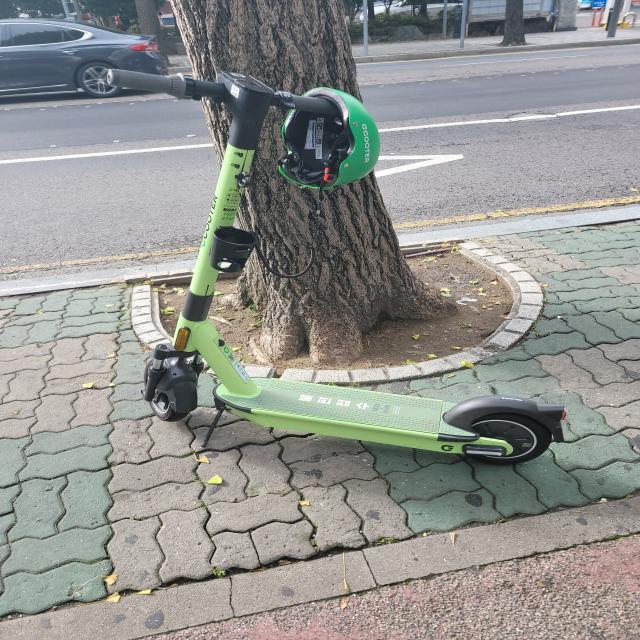bike: (96, 69, 567, 467)
car: (0, 18, 167, 106), (578, 0, 608, 10)
